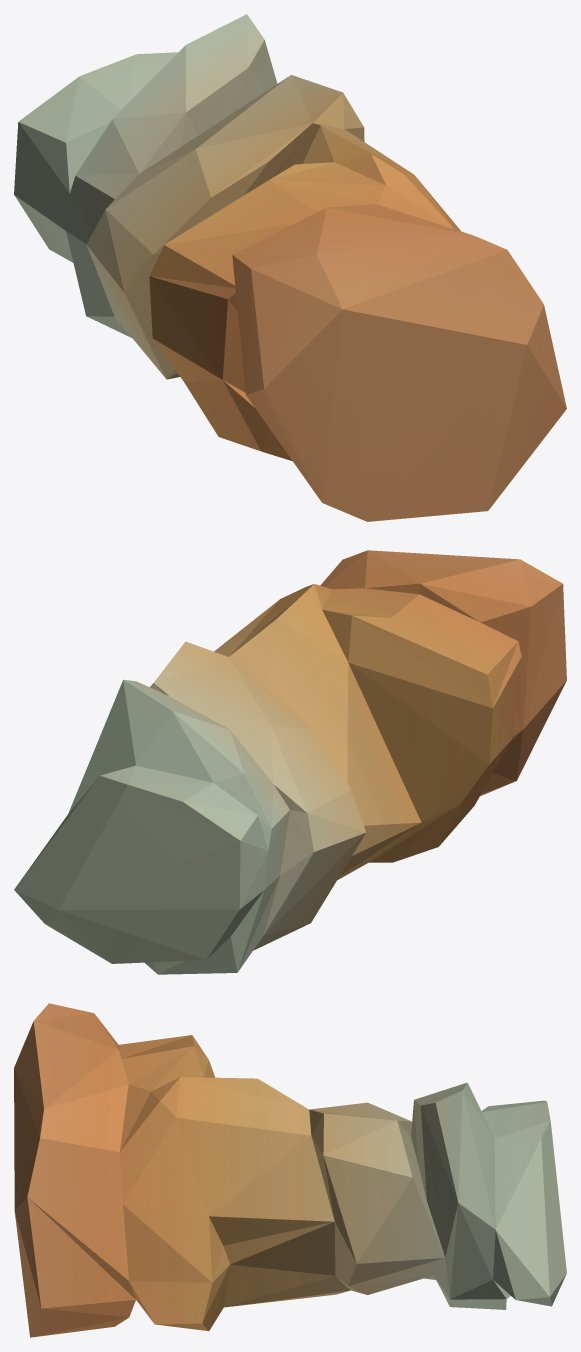
Rendered from Monument_cliffa.fbx.
3 renders of one model, top to bottom at view 1: azimuth 30°, elevation 25°; view 2: azimuth 150°, elevation 25°; view 3: azimuth 270°, elevation 25°, orthographic. The views are drawn at different scales.
Parts seen in each view (by area): view 1: Monument_cliffa; view 2: Monument_cliffa; view 3: Monument_cliffa.
Boxes of the visible parts, x1,y1,x2,y2 form: Monument_cliffa: [14, 14, 566, 521]; Monument_cliffa: [14, 550, 566, 974]; Monument_cliffa: [14, 1003, 566, 1337].
Bounding box in the file's own units: 367 × 304 × 599.
